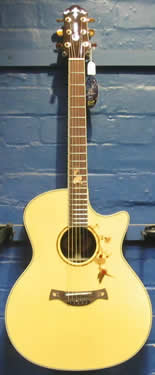guitar: (5, 6, 153, 371)
